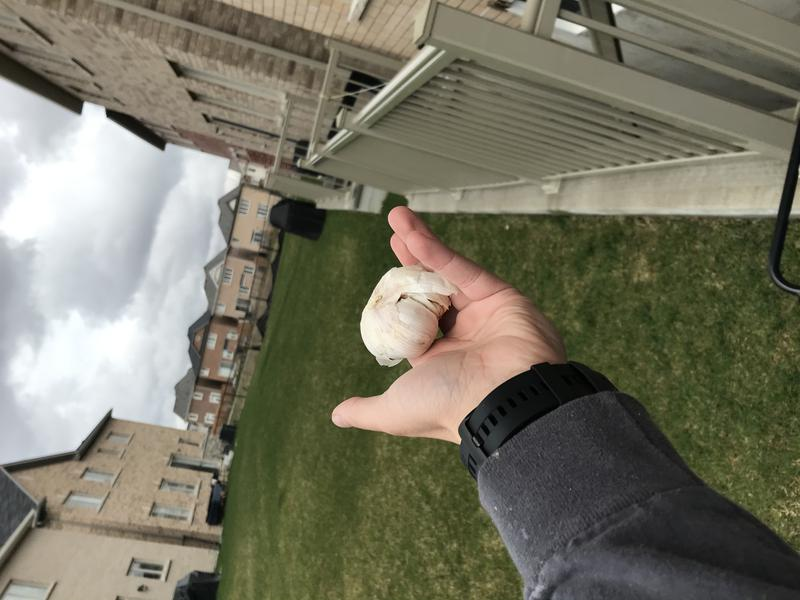garlic: (353, 260, 463, 375)
